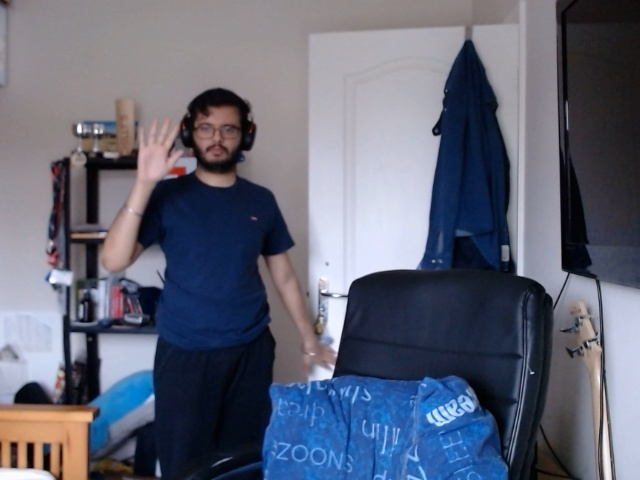Hello: (133, 116, 187, 191)
